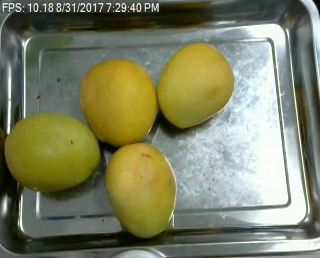Mango: (3, 112, 99, 190), (104, 141, 175, 240), (82, 57, 157, 145), (157, 44, 234, 129)
